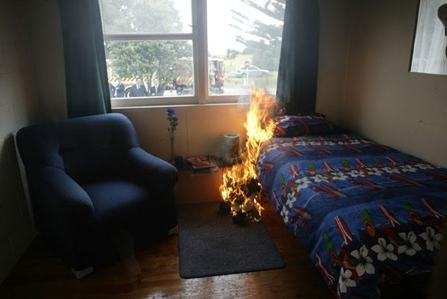fire: (219, 93, 282, 222)
